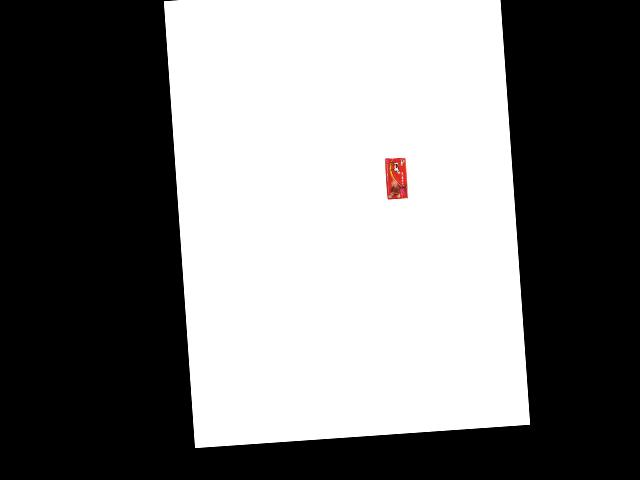chocolate: (382, 155, 408, 200)
